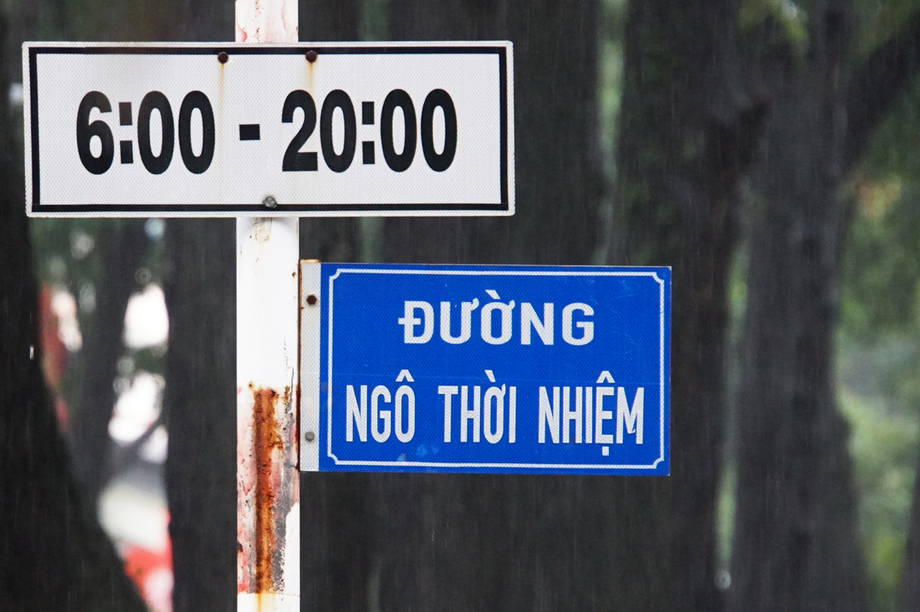streetname: (311, 262, 673, 481)
